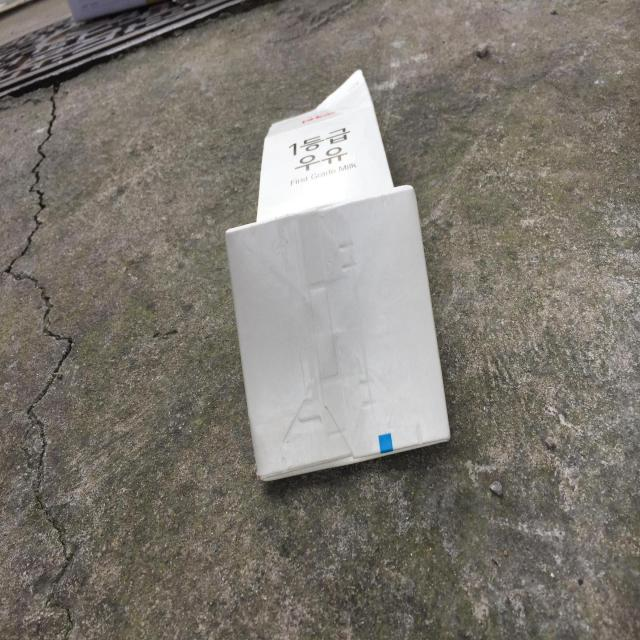paperpack: (226, 69, 451, 481)
